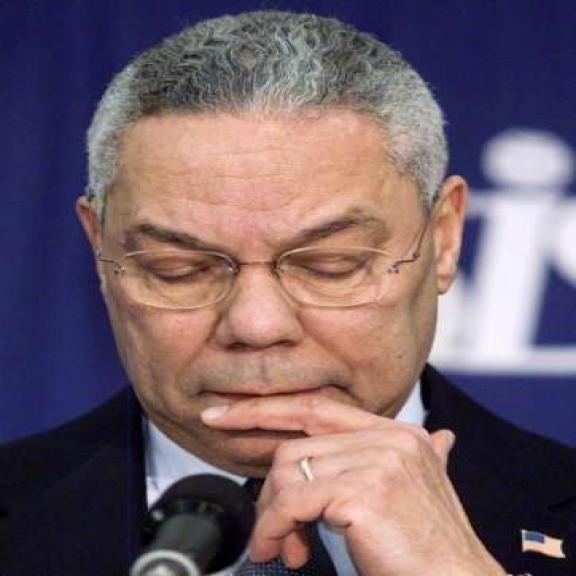face: (73, 128, 485, 480)
